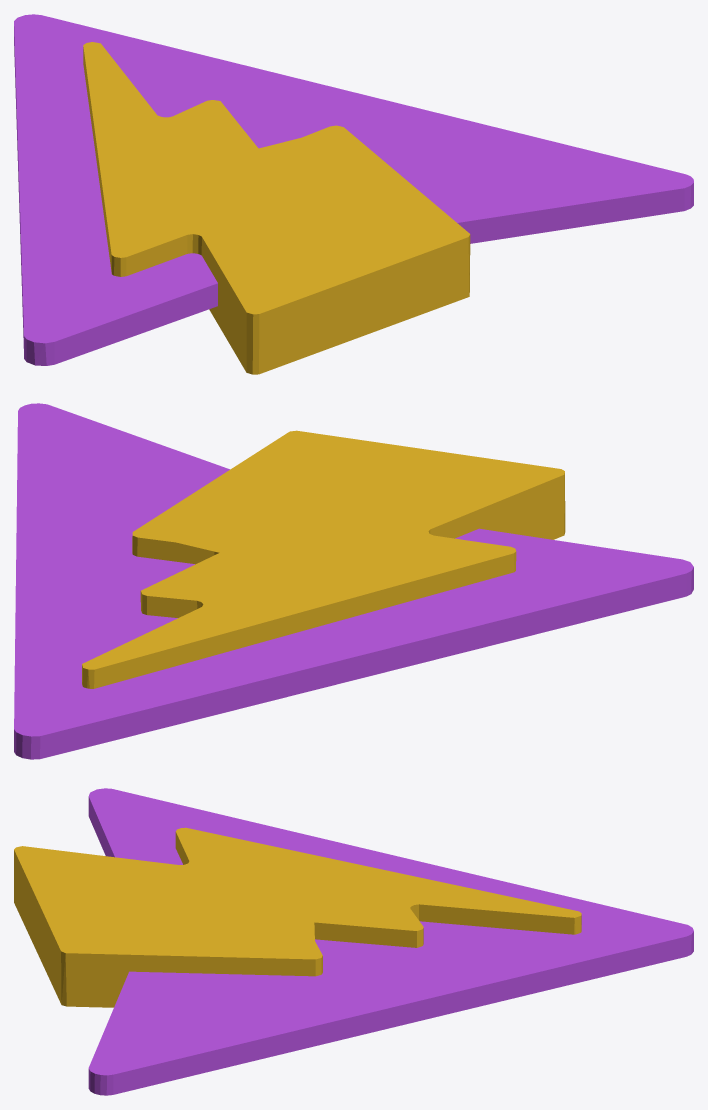
Rendered from IconVite.glb.
The picture shows the model from 3 angles, top to bottom: view 1: azimuth 30°, elevation 25°; view 2: azimuth 150°, elevation 25°; view 3: azimuth 270°, elevation 25°; orthographic projection. The views are drawn at different scales.
Visible parts, largest first — view 1: IconVite; view 2: IconVite; view 3: IconVite.
Boxes of the visible parts, bbox=[...] form: IconVite: bbox=[14, 14, 693, 374]; IconVite: bbox=[14, 403, 693, 759]; IconVite: bbox=[14, 788, 693, 1095].
Size of the model in its own units: 2.12 by 0.1836 by 2.12.
